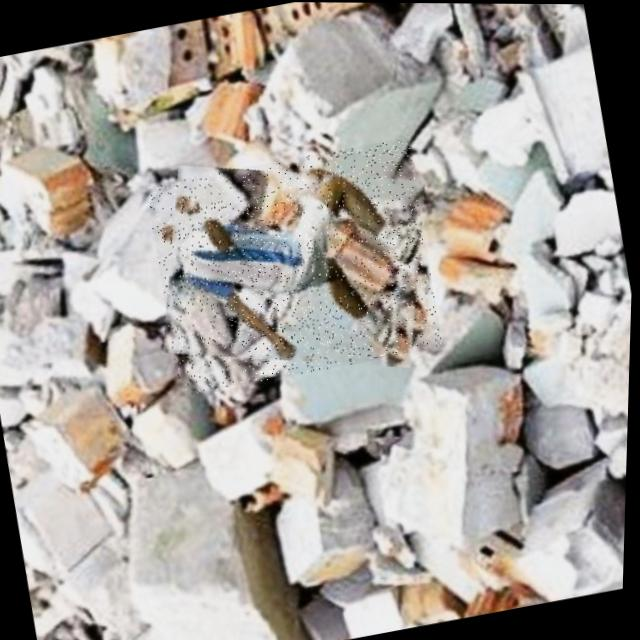Person in Rubble: (142, 134, 450, 397)
